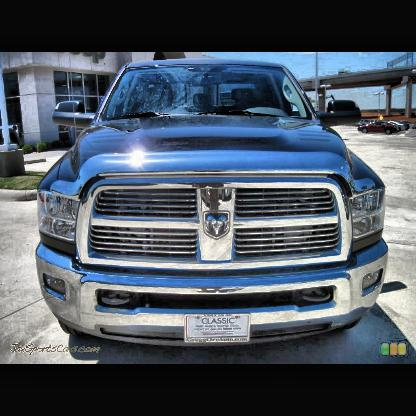Dodge Ram Pickup 3500 Crew Cab 2010: (35, 61, 391, 349)
